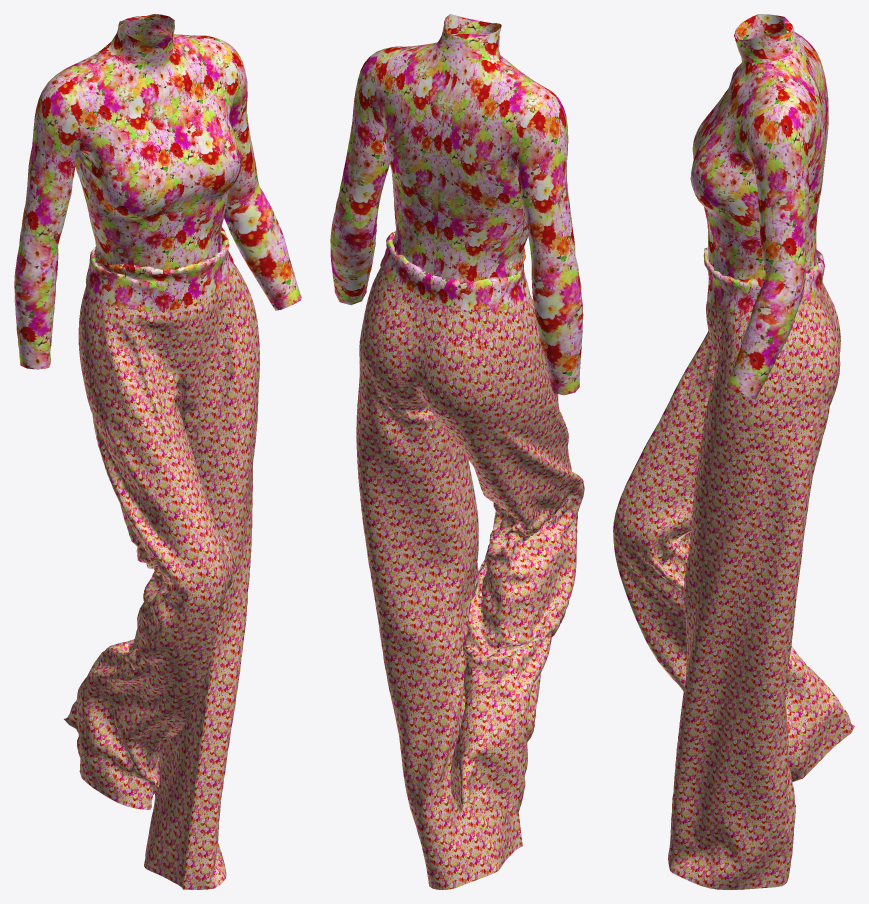
File: DA_HighNeck+WidePants_0000010.obj
3 renders of one model, left to right at view 1: azimuth 30°, elevation 25°; view 2: azimuth 150°, elevation 25°; view 3: azimuth 270°, elevation 25°, orthographic. The views are drawn at different scales.
Size of the model in its own units: 0.5289 by 1.64 by 0.4261.
